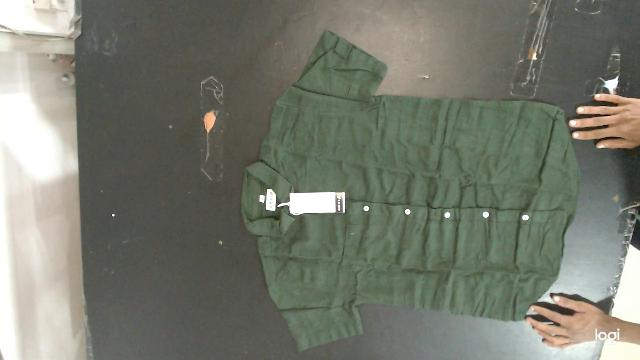new-garment: (241, 31, 579, 349)
